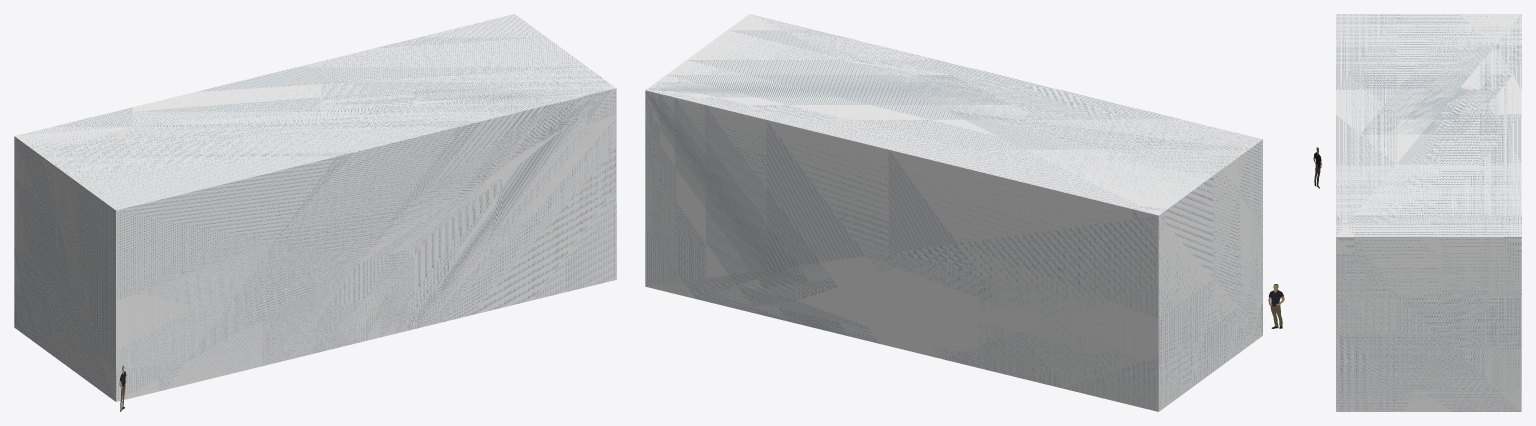
File: COOP.dae
The picture shows the model from 3 angles, left to right: view 1: azimuth 30°, elevation 25°; view 2: azimuth 150°, elevation 25°; view 3: azimuth 270°, elevation 25°; orthographic projection. The views are drawn at different scales.
Parts seen in each view (by area): view 1: SketchUp; view 2: SketchUp; view 3: SketchUp.
Boxes of the visible parts, x1,y1,x2,y2 form: SketchUp: (14, 14, 616, 401); SketchUp: (645, 14, 1262, 411); SketchUp: (1336, 14, 1521, 411).
Bounding box in the file's own units: 843 × 326 × 303.
